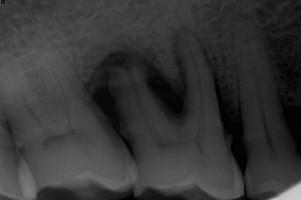Dental Caries: (84, 23, 198, 116)
